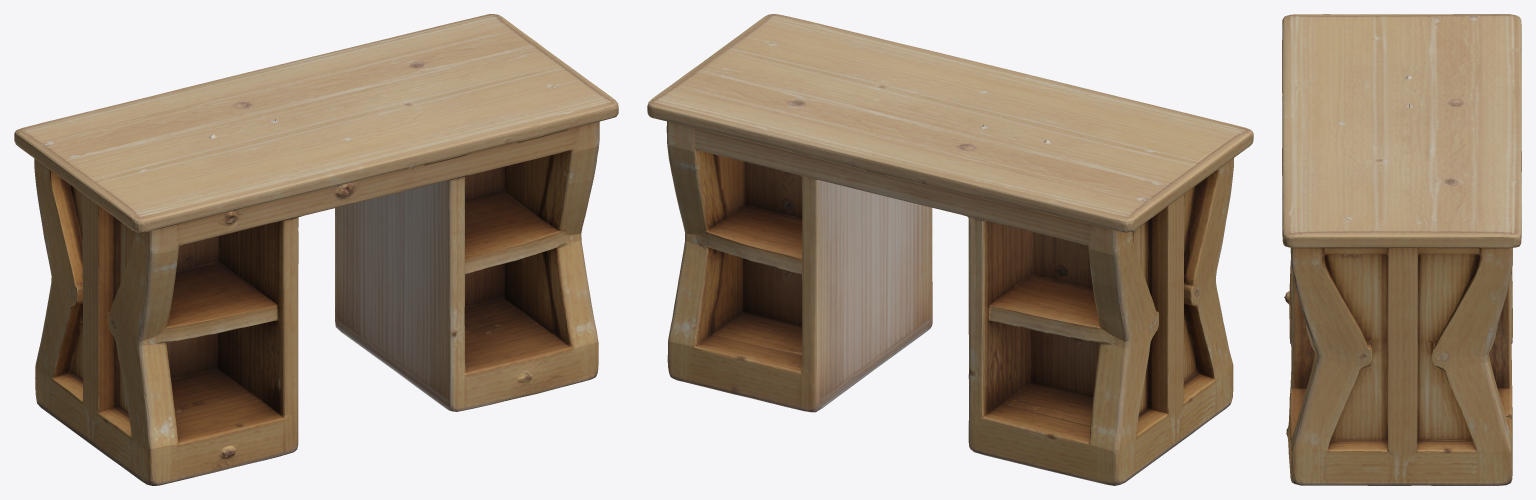
The picture shows the model from 3 angles, left to right: view 1: azimuth 30°, elevation 25°; view 2: azimuth 150°, elevation 25°; view 3: azimuth 270°, elevation 25°; orthographic projection. The views are drawn at different scales.
Visible parts, largest first — view 1: world; view 2: world; view 3: world.
Boxes of the visible parts, x1,y1,x2,y2 form: world: (14,14,618,485); world: (647,14,1253,485); world: (1282,14,1521,485).
Size of the model in its own units: 1 by 0.5488 by 0.4553.
Materials: 1 (1 with a texture image).
